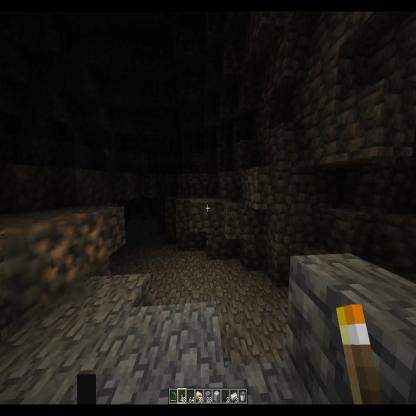iron ore: (4, 220, 84, 304), (52, 214, 110, 275)
